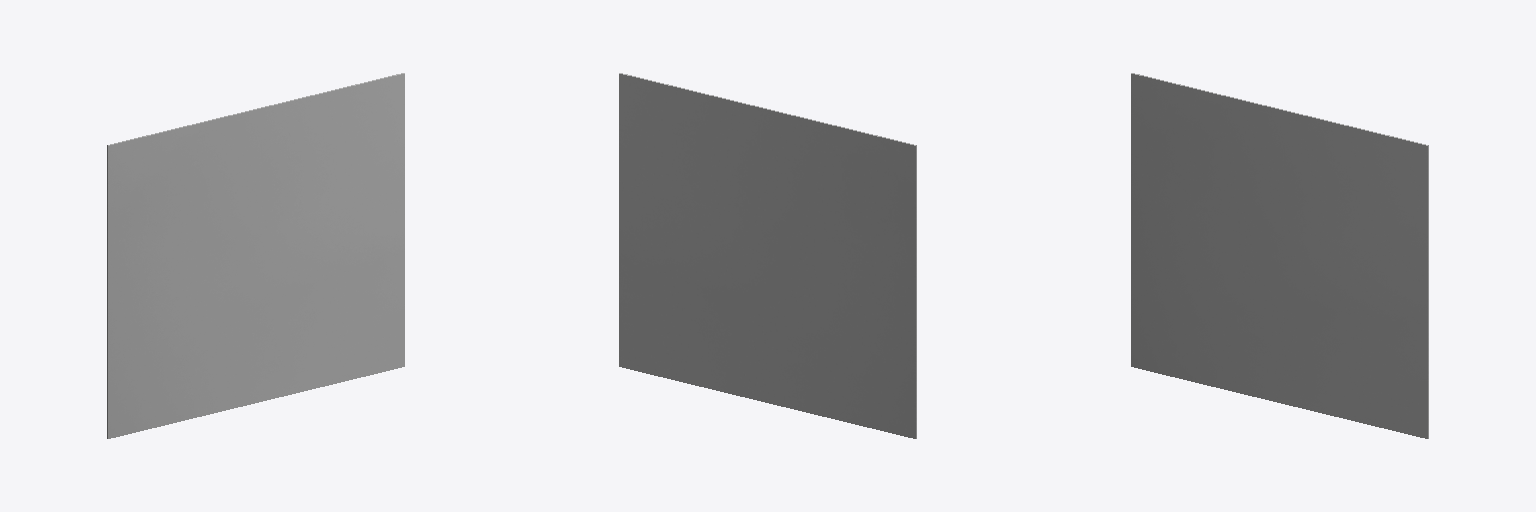
The picture shows the model from 3 angles: view 1: azimuth 30°, elevation 25°; view 2: azimuth 150°, elevation 25°; view 3: azimuth 330°, elevation 25°; orthographic projection.
Parts seen in each view (by area): view 1: puerta8:pCube1 group252 group250 group251; view 2: puerta8:pCube1 group252 group250 group251; view 3: puerta8:pCube1 group252 group250 group251.
Boxes of the visible parts, x1=… form: puerta8:pCube1 group252 group250 group251: x1=107, y1=73, x2=404, y2=438; puerta8:pCube1 group252 group250 group251: x1=619, y1=73, x2=916, y2=438; puerta8:pCube1 group252 group250 group251: x1=1131, y1=73, x2=1428, y2=438.
Bounding box in the file's own units: 3.91 × 3.7 × 0.0237.
1 materials, 1 textured.